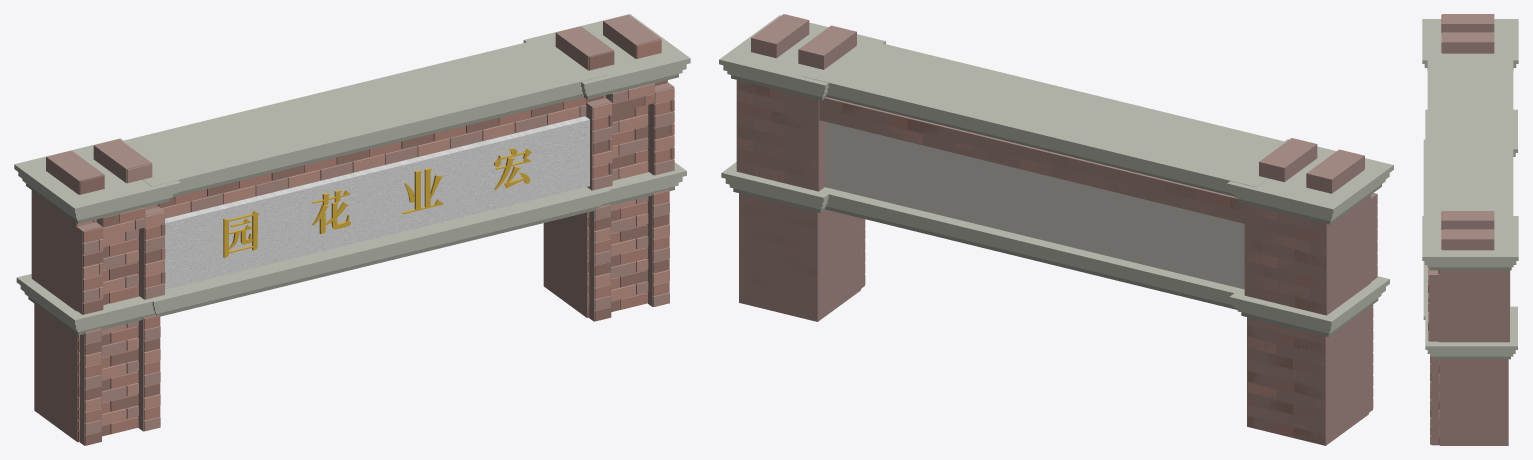
Rendered from hongye-lintel-far.glb.
The picture shows the model from 3 angles, left to right: view 1: azimuth 30°, elevation 25°; view 2: azimuth 150°, elevation 25°; view 3: azimuth 270°, elevation 25°; orthographic projection. The views are drawn at different scales.
Parts seen in each view (by area): view 1: 宏业花园1088弄门额与砖柱柱头; view 2: 宏业花园1088弄门额与砖柱柱头; view 3: 宏业花园1088弄门额与砖柱柱头.
Boxes of the visible parts, box(x1,y1,x2,y2) form: 宏业花园1088弄门额与砖柱柱头: box(14, 14, 690, 445); 宏业花园1088弄门额与砖柱柱头: box(719, 14, 1393, 445); 宏业花园1088弄门额与砖柱柱头: box(1422, 14, 1518, 445).
Size of the model in its own units: 4.72 by 1.9 by 0.805.
Materials: 10 (1 with a texture image).
